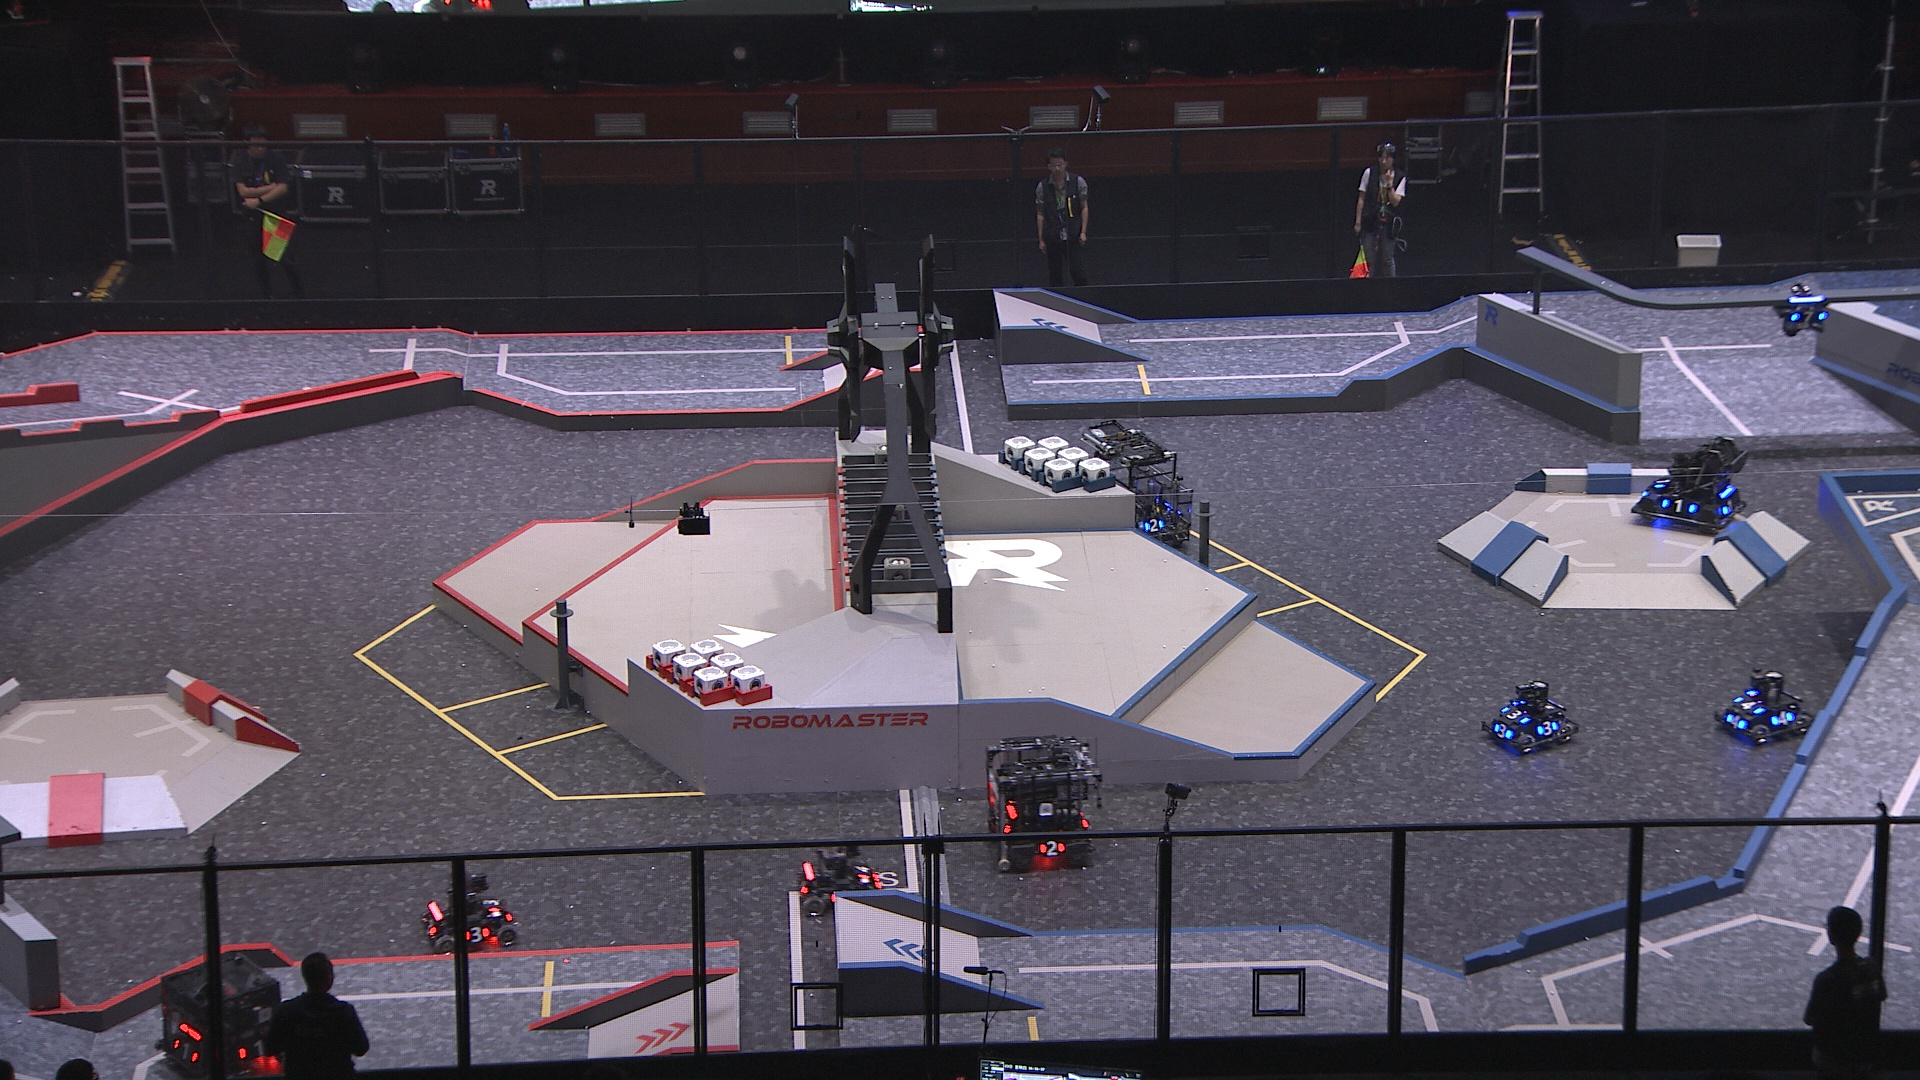armor: (239, 1035, 276, 1059), (169, 1035, 199, 1062), (1787, 306, 1826, 324), (1660, 498, 1697, 517), (1735, 694, 1764, 713), (1038, 840, 1067, 858), (1139, 516, 1166, 534), (1491, 719, 1513, 741), (1503, 704, 1527, 723), (465, 926, 491, 943), (1771, 709, 1795, 727), (1726, 711, 1746, 731), (796, 880, 814, 898), (855, 862, 870, 882), (1718, 498, 1735, 516), (1656, 473, 1673, 491), (1536, 721, 1557, 735), (484, 895, 500, 913), (425, 916, 436, 936)
car: (153, 949, 291, 1077), (978, 733, 1095, 869), (1081, 414, 1200, 546), (1633, 438, 1750, 538), (419, 870, 520, 955), (1716, 666, 1811, 749), (1482, 679, 1580, 756), (789, 843, 877, 920)
watcher: (1774, 280, 1836, 334)
